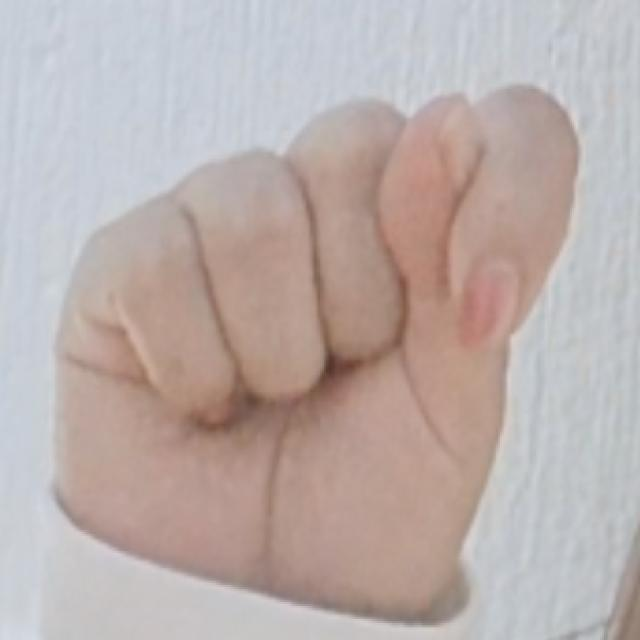T: (42, 75, 586, 606)
